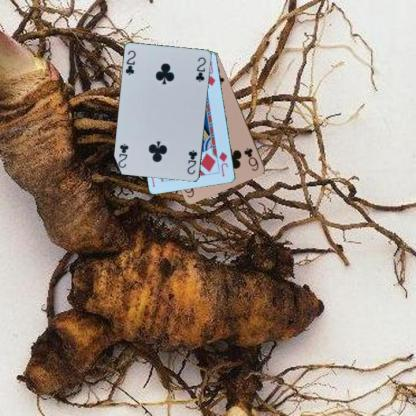2c: (185, 147, 199, 176), (123, 48, 137, 77)
6c: (242, 145, 260, 172)
Jd: (217, 149, 229, 178)
